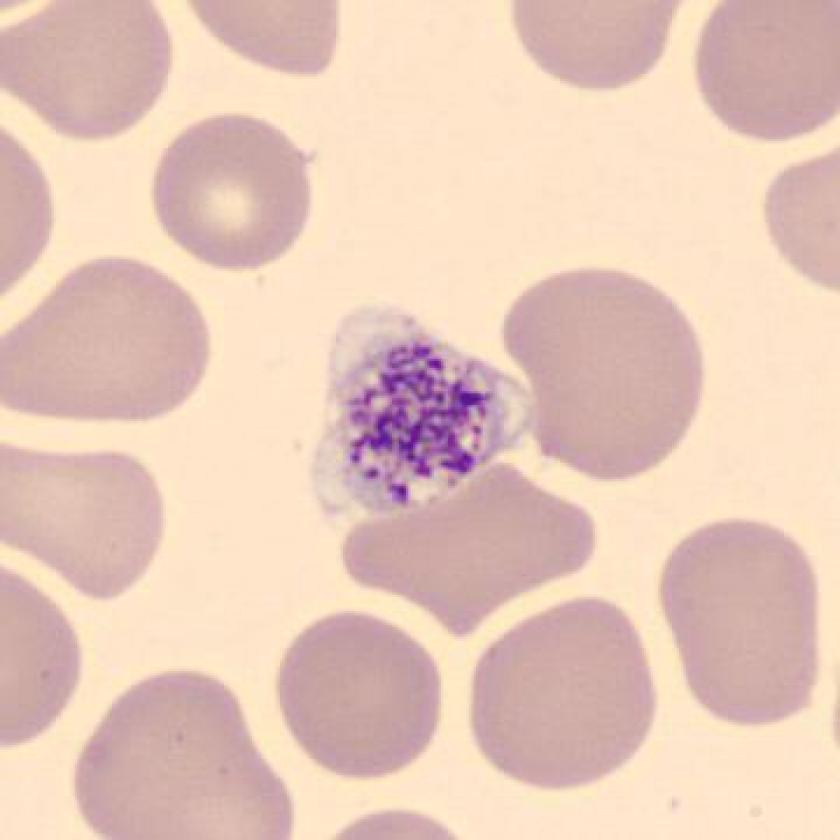platelets: (290, 293, 552, 547)
